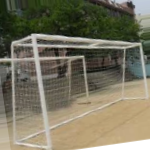goals: (10, 32, 149, 150)
